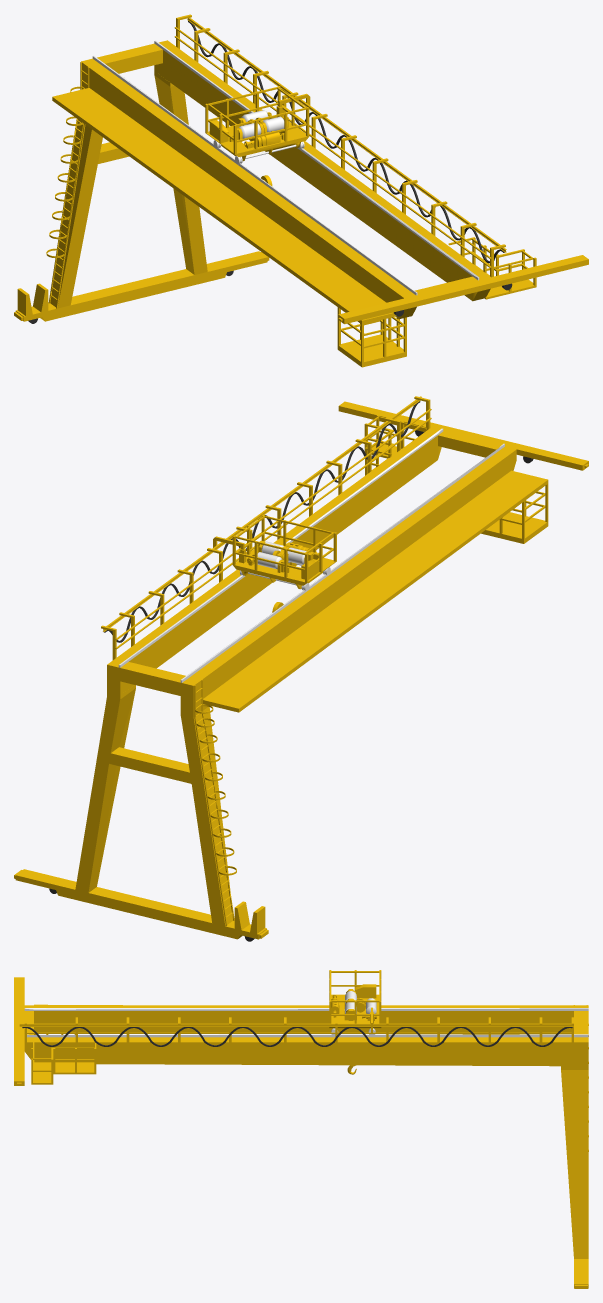
The picture shows the model from 3 angles, top to bottom: view 1: azimuth 30°, elevation 25°; view 2: azimuth 150°, elevation 25°; view 3: azimuth 270°, elevation 25°; orthographic projection. The views are drawn at different scales.
Parts seen in each view (by area): view 1: 2_Bay_C_862_Bode, 2_Bay_C_862_Head_01; view 2: 2_Bay_C_862_Bode, 2_Bay_C_862_Head_01; view 3: 2_Bay_C_862_Bode, 2_Bay_C_862_Head_01.
Boxes of the visible parts, x1=… form: 2_Bay_C_862_Bode: x1=14, y1=14, x2=588, y2=367; 2_Bay_C_862_Head_01: x1=205, y1=86, x2=310, y2=186; 2_Bay_C_862_Bode: x1=14, y1=396, x2=588, y2=941; 2_Bay_C_862_Head_01: x1=213, y1=514, x2=336, y2=612; 2_Bay_C_862_Bode: x1=14, y1=977, x2=588, y2=1288; 2_Bay_C_862_Head_01: x1=329, y1=970, x2=381, y2=1074.
Size of the model in its own units: 9.43 by 10.47 by 21.68.
